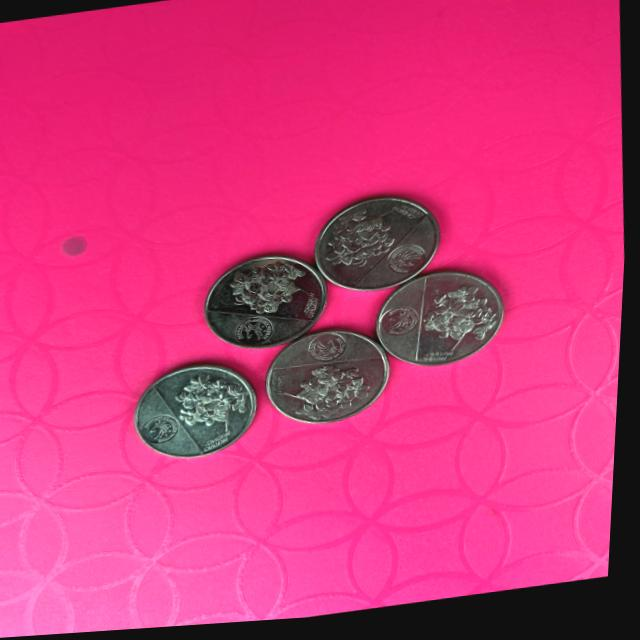1_New_Back: (173, 370, 258, 445), (328, 205, 410, 276), (424, 288, 505, 357), (291, 363, 379, 421), (230, 256, 317, 314)
